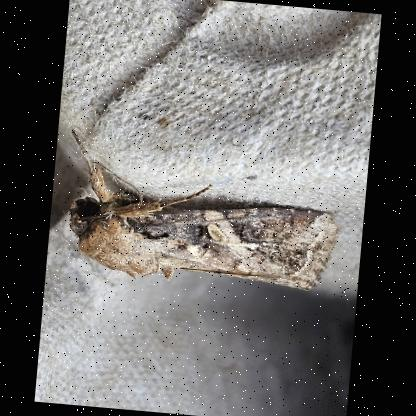Fall Armyworm Moth: (55, 126, 352, 300)
